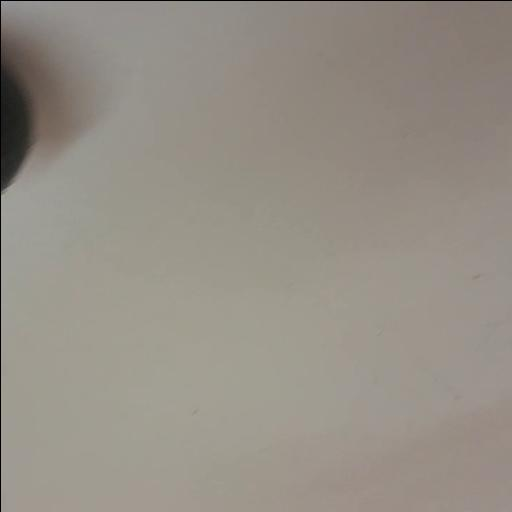dead: (0, 52, 33, 204)
